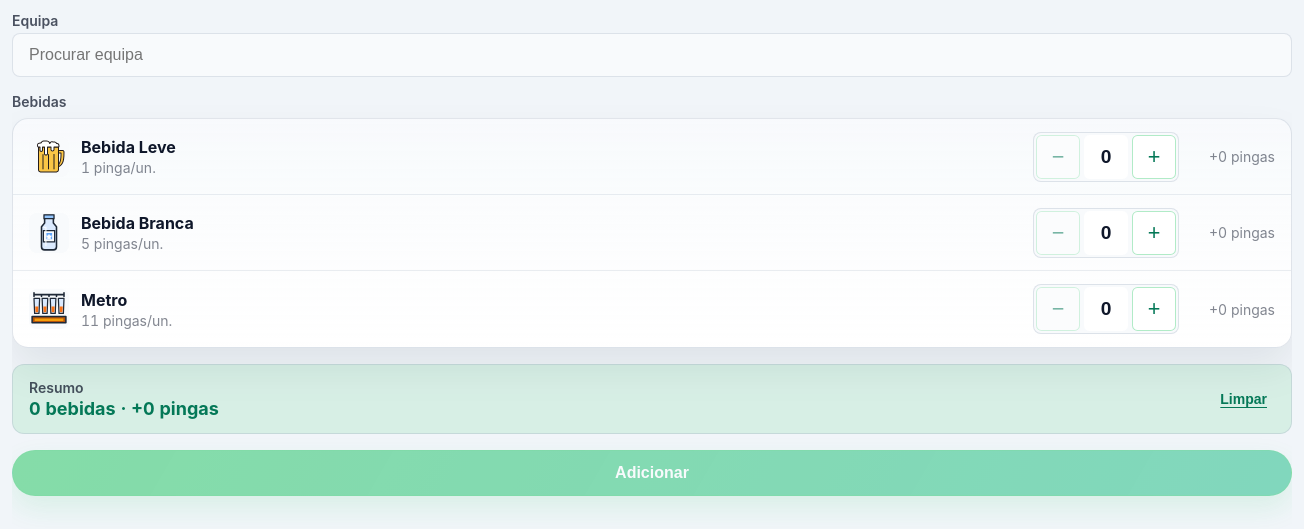
Test: AddPingasPanel drinks workflow › supports keyboard-only team selection without submitting the form
Type "Equipa" into the dropdown named "Procurar equipa" at (652, 55), box [12,33,1292,77]
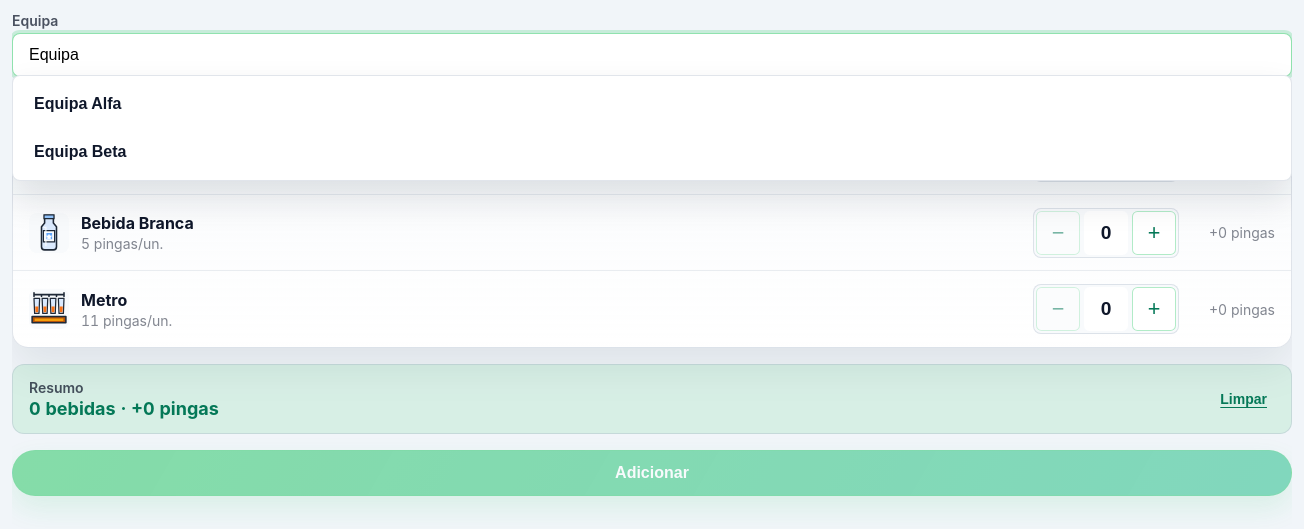
Expected: the dropdown named "Procurar equipa" is expanded, [12,33,1292,77]
Press Arrowdown
Press Enter
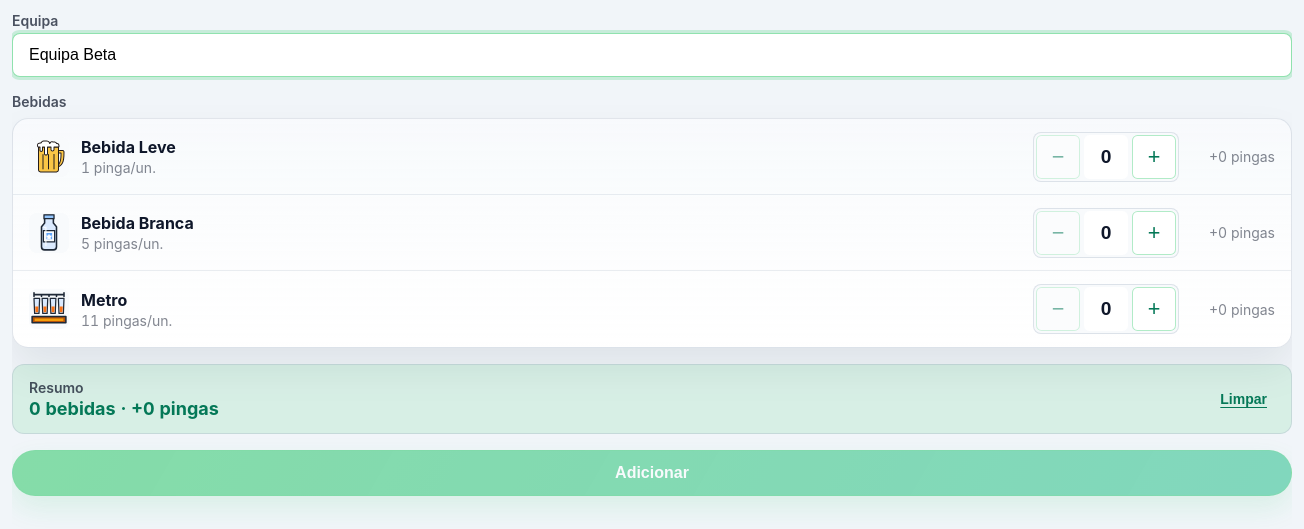
Expected: the dropdown named "Procurar equipa" holds "Equipa Beta", [12,33,1292,77]
Expected: the list is gone
